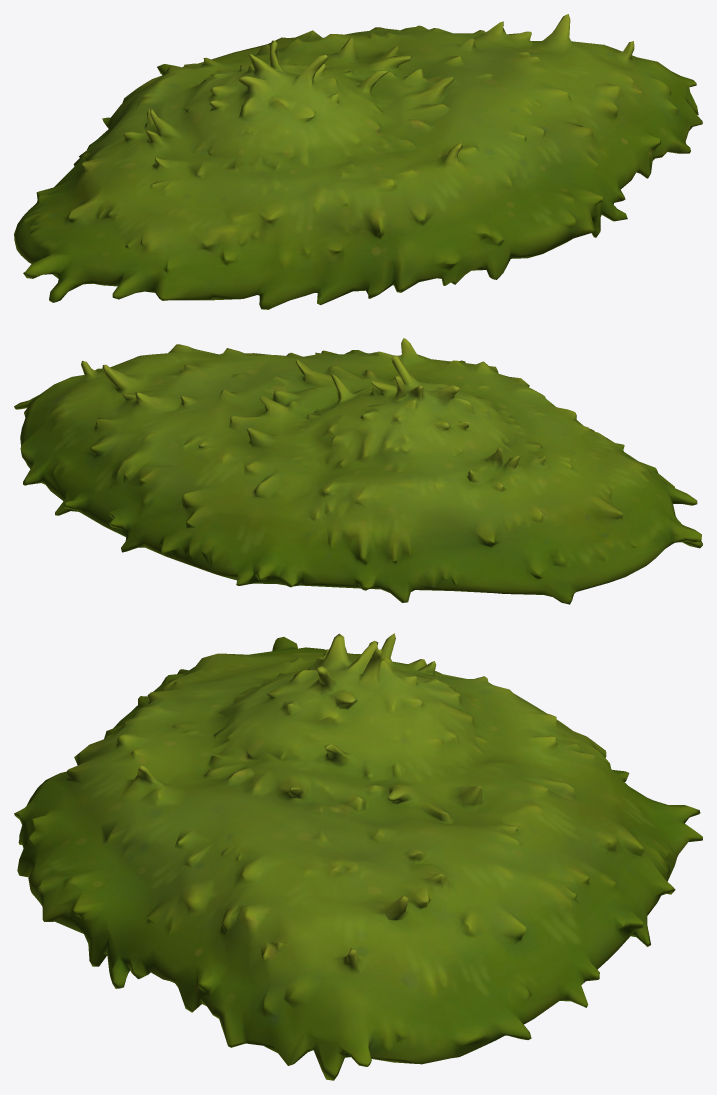
Rendered from bog_moss.glb.
3 renders of one model, top to bottom at view 1: azimuth 30°, elevation 25°; view 2: azimuth 150°, elevation 25°; view 3: azimuth 270°, elevation 25°, orthographic. The views are drawn at different scales.
Parts seen in each view (by area): view 1: SM_XBOG_DRS_MossPatch_01A; view 2: SM_XBOG_DRS_MossPatch_01A; view 3: SM_XBOG_DRS_MossPatch_01A.
Part boxes in pixels (x1,y1,x2,y2): SM_XBOG_DRS_MossPatch_01A: [14, 14, 702, 309]; SM_XBOG_DRS_MossPatch_01A: [14, 338, 702, 604]; SM_XBOG_DRS_MossPatch_01A: [14, 633, 702, 1080].
Bounding box in the file's own units: 3.28 × 0.7383 × 2.27.
1 material, 1 textured.
